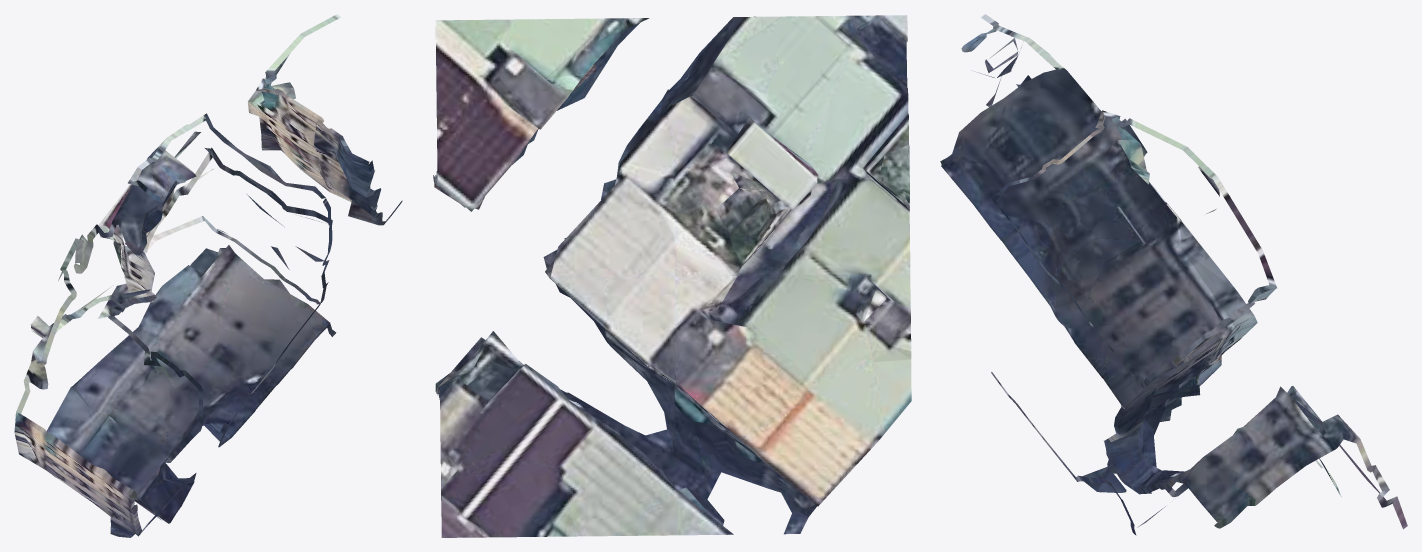
The picture shows the model from 3 angles, left to right: view 1: azimuth 30°, elevation 25°; view 2: azimuth 150°, elevation 25°; view 3: azimuth 270°, elevation 25°; orthographic projection. The views are drawn at different scales.
Bounding box in the file's own units: 39.05 × 40.11 × 36.14.
2 materials, 2 textured.
